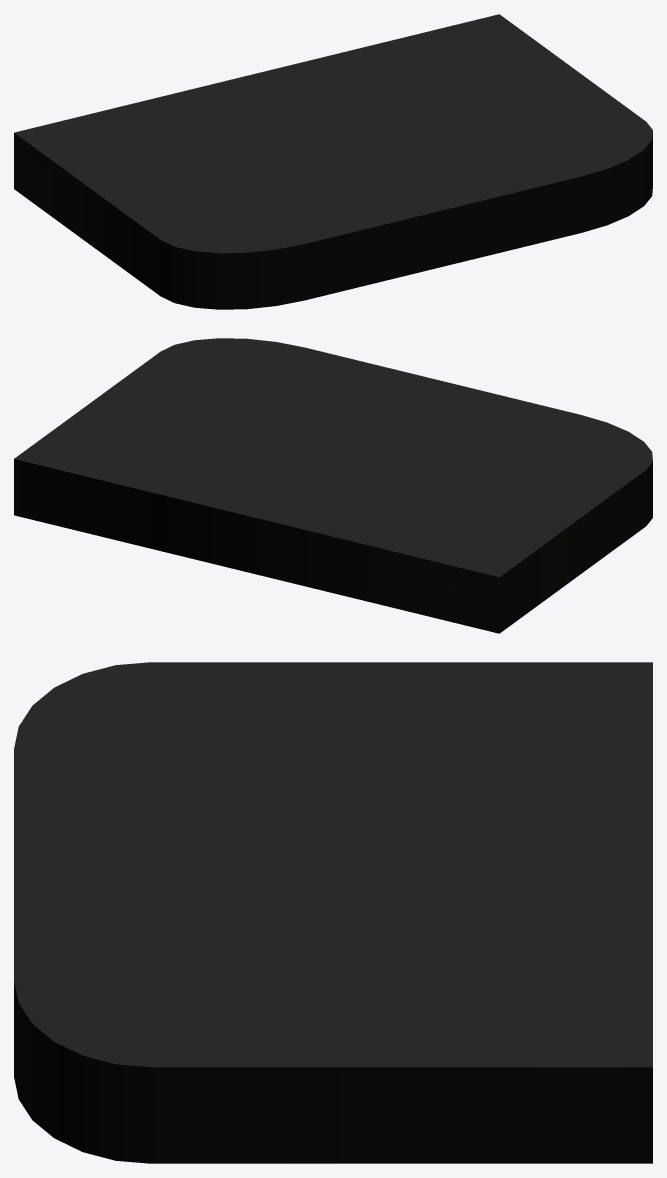
File: StageRectangularDark.glb
The picture shows the model from 3 angles, top to bottom: view 1: azimuth 30°, elevation 25°; view 2: azimuth 150°, elevation 25°; view 3: azimuth 270°, elevation 25°; orthographic projection. The views are drawn at different scales.
Visible parts, largest first — view 1: StageRectangularDark; view 2: StageRectangularDark; view 3: StageRectangularDark.
Part boxes in pixels (x1,y1,x2,y2): StageRectangularDark: (14, 14, 652, 309); StageRectangularDark: (14, 338, 652, 633); StageRectangularDark: (14, 662, 652, 1163).
Size of the model in its own units: 9 by 1 by 6.
Materials: 1 (1 with a texture image).
